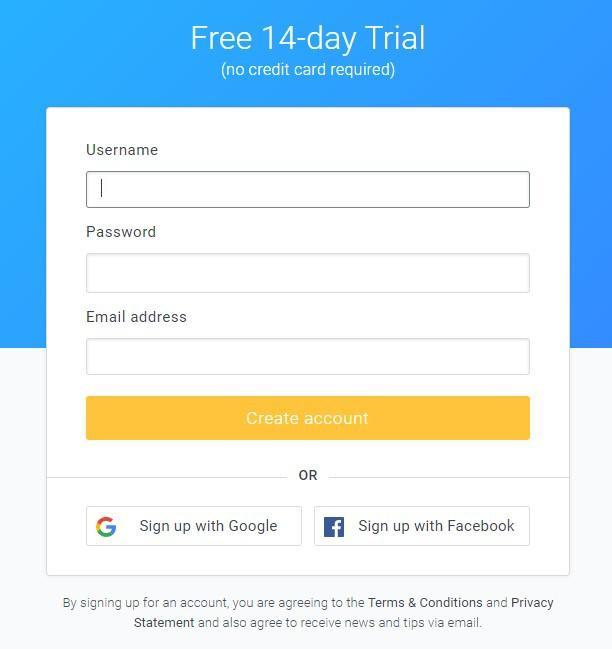button: (89, 398, 531, 439), (86, 508, 303, 546), (316, 506, 530, 544)
input: (88, 255, 530, 294), (86, 340, 531, 376), (88, 172, 531, 208)
label: (84, 312, 194, 328), (79, 139, 162, 159), (86, 223, 164, 243)
